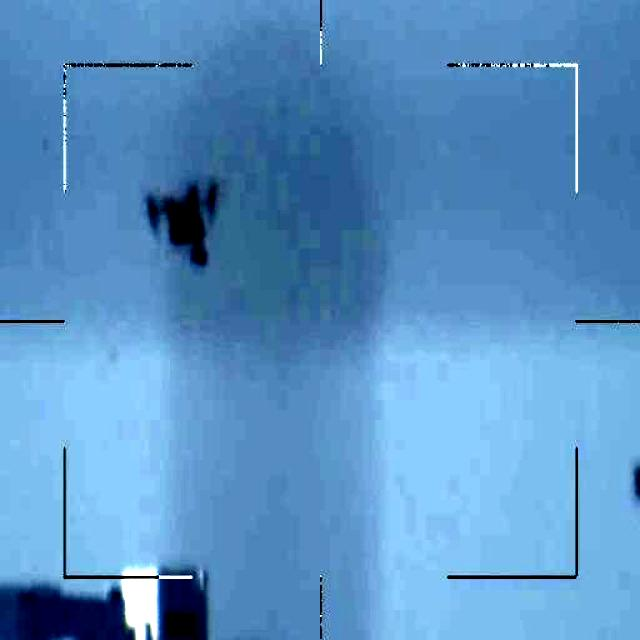bird: (138, 180, 216, 266)
